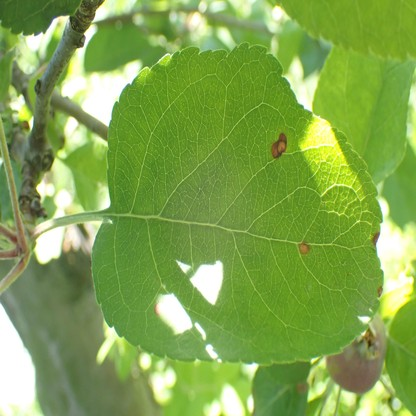frogeye_leaf_spot: (270, 132, 288, 159), (298, 241, 310, 255), (372, 232, 379, 247), (378, 285, 383, 298)
powdery_mildew: (154, 302, 163, 315)
